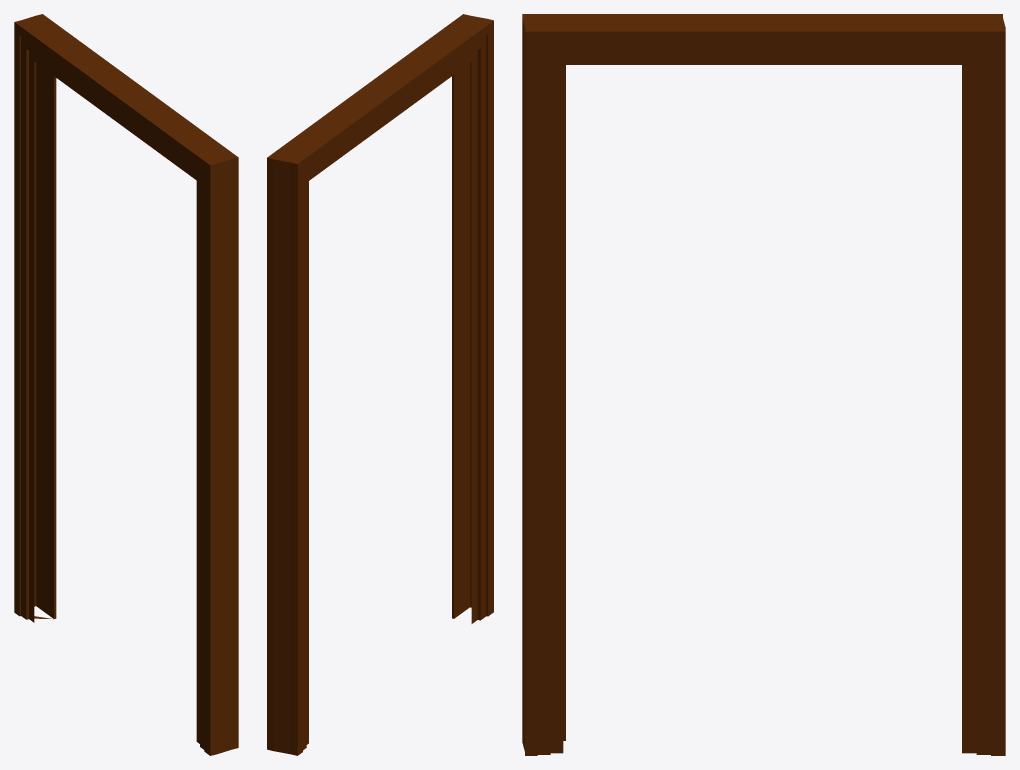
File: tuerrahmen.fbx
The picture shows the model from 3 angles, left to right: view 1: azimuth 30°, elevation 25°; view 2: azimuth 150°, elevation 25°; view 3: azimuth 270°, elevation 25°; orthographic projection. The views are drawn at different scales.
Visible parts, largest first — view 1: Tuerrahmen; view 2: Tuerrahmen; view 3: Tuerrahmen.
Part boxes in pixels (x1,y1,x2,y2): Tuerrahmen: [14, 14, 238, 755]; Tuerrahmen: [267, 14, 493, 755]; Tuerrahmen: [522, 14, 1005, 755].
Size of the model in its own units: 20.71 by 397 by 240.
